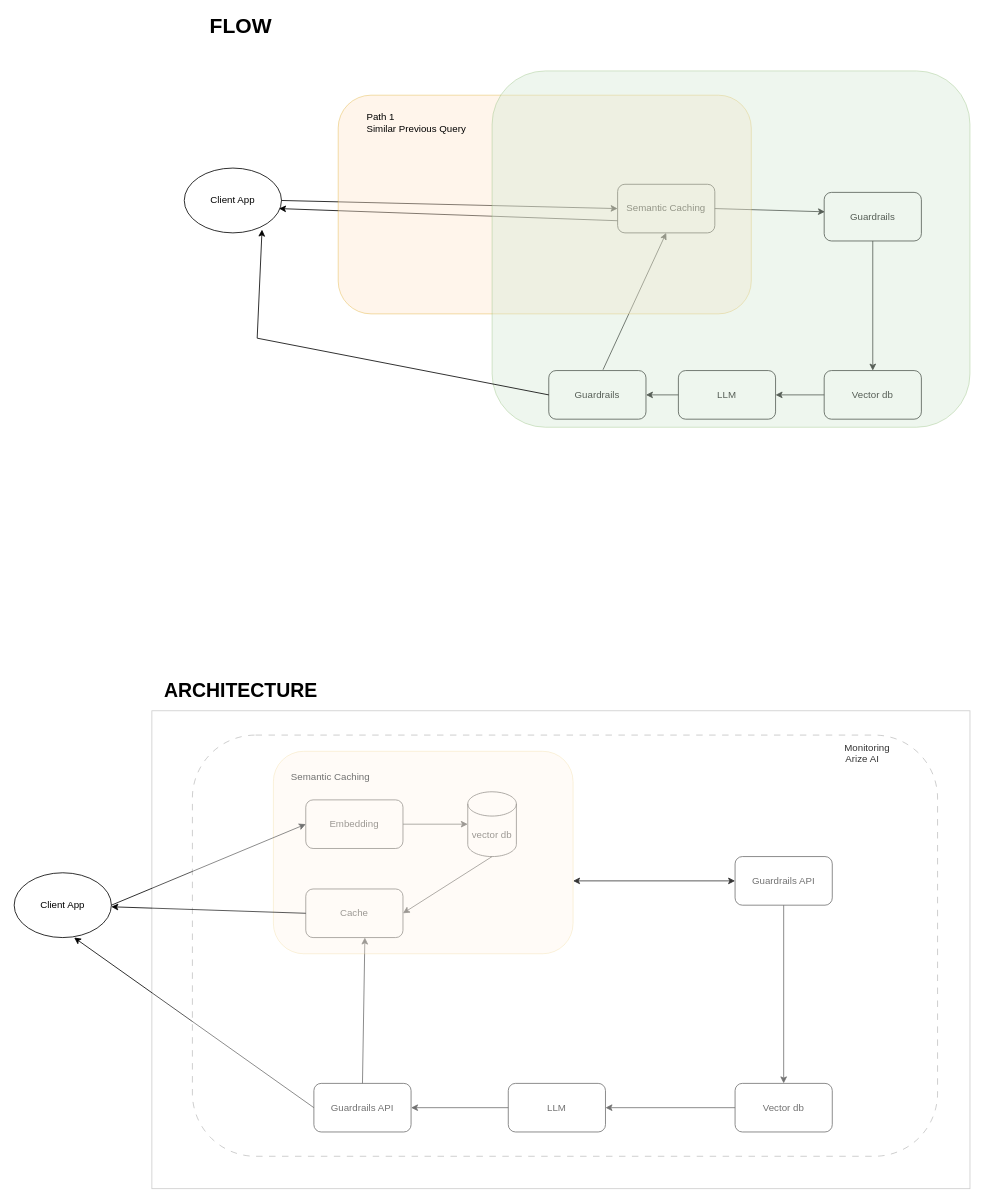
The diagram is 984 pixels wide and 1203 high, and some of its shapes have lost their labels. The shapes that lost their labels are listed below. From the top down, each one's centre as x and y in pixels, then its label:
At pixel 730 248: "Path 2 No Similar Previous Query".
At pixel 560 949: "Kubernetes".
